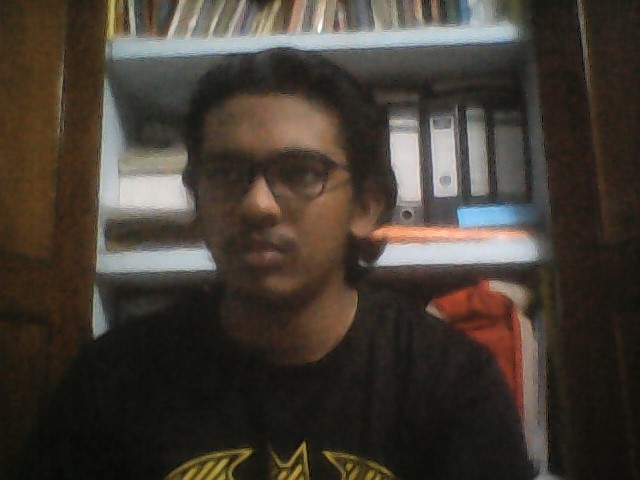person: (38, 48, 511, 480)
